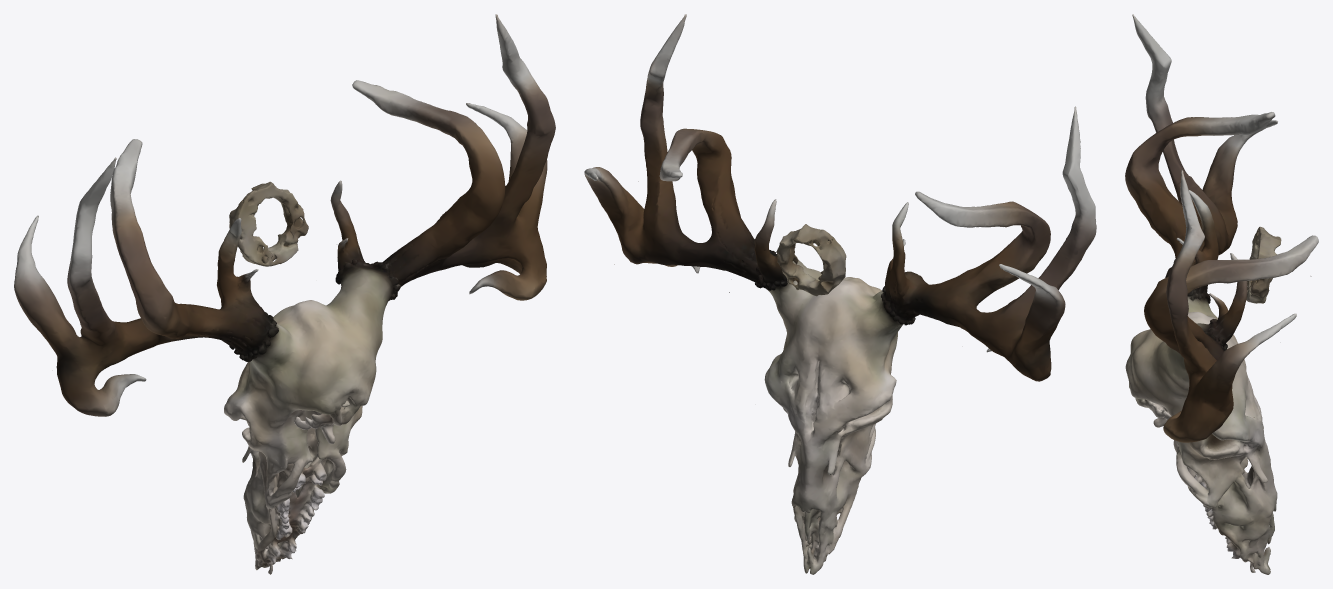
File: ophira.glb
The picture shows the model from 3 angles, left to right: view 1: azimuth 30°, elevation 25°; view 2: azimuth 150°, elevation 25°; view 3: azimuth 270°, elevation 25°; orthographic projection. The views are drawn at different scales.
Parts seen in each view (by area): view 1: antlers, antlers.081; view 2: antlers, antlers.081; view 3: antlers, antlers.081.
Part boxes in pixels (x1=…): antlers: x1=14, y1=14, x2=555, y2=574; antlers.081: x1=229, y1=181, x2=308, y2=266; antlers: x1=584, y1=14, x2=1096, y2=574; antlers.081: x1=776, y1=224, x2=846, y2=296; antlers: x1=1125, y1=14, x2=1318, y2=574; antlers.081: x1=1246, y1=226, x2=1281, y2=303.
Size of the model in its own units: 1.05 by 1.03 by 0.374.
